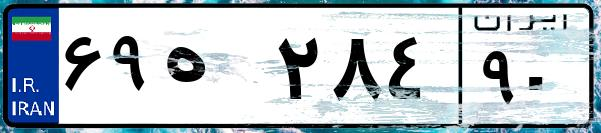0: (525, 38, 570, 115)
2: (270, 28, 330, 110)
4: (385, 28, 445, 110)
6: (57, 26, 110, 100)
8: (330, 28, 385, 110)
9: (475, 38, 525, 113), (110, 28, 158, 98)
ه: (158, 20, 270, 120)
